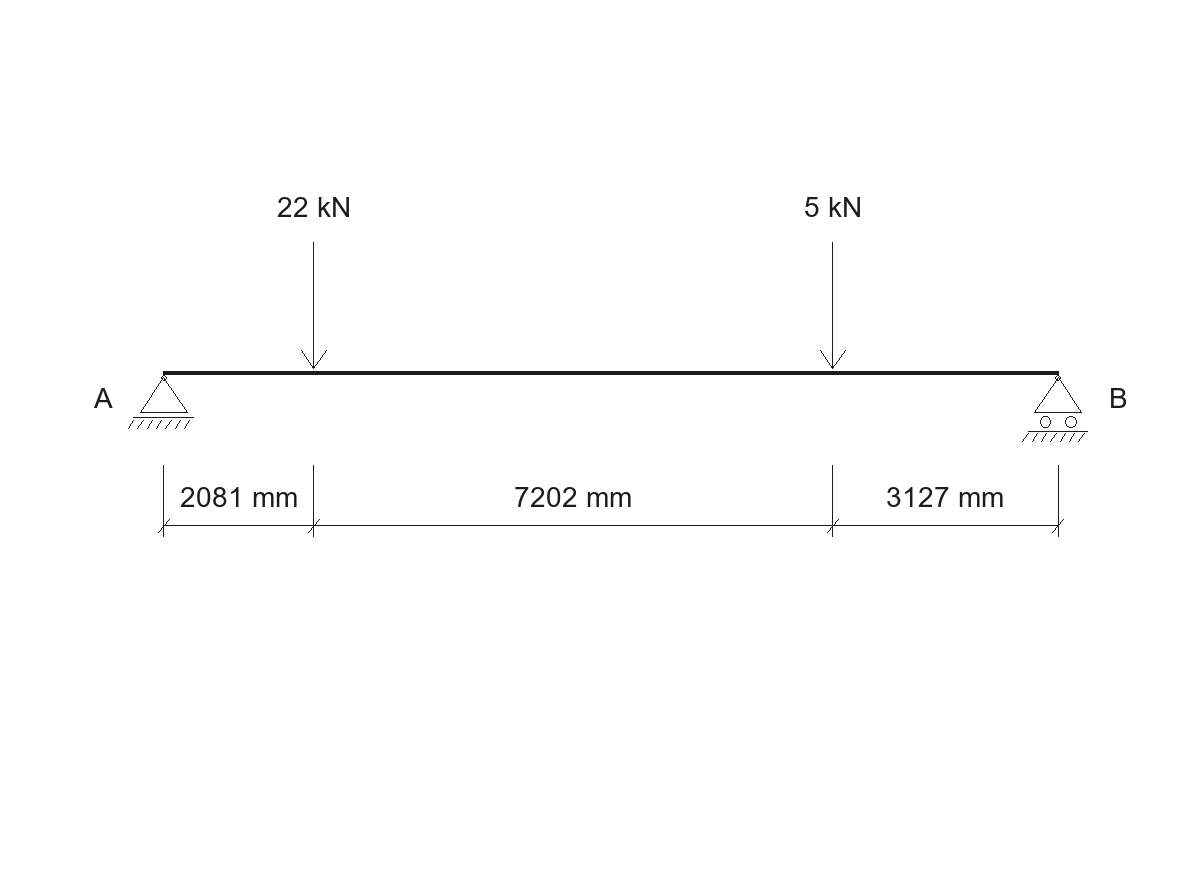pin_support: (128, 375, 194, 429)
point_load: (301, 242, 327, 369), (820, 242, 846, 369)
roller_support: (1022, 375, 1088, 442)
